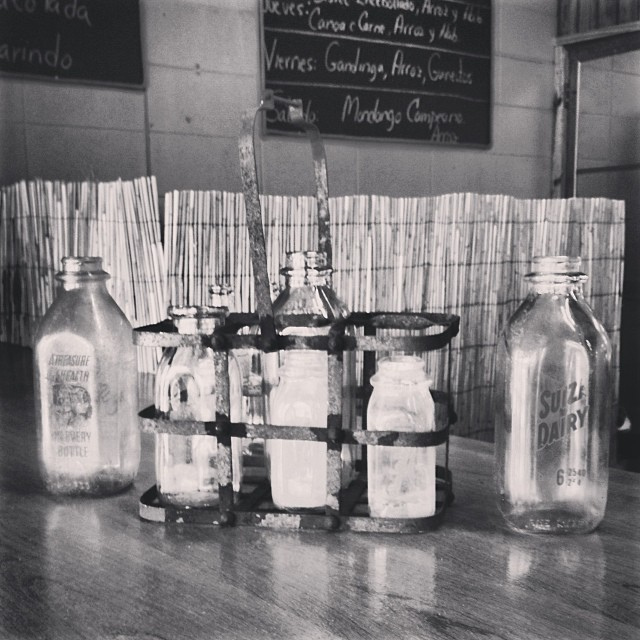glass of water: (500, 249, 611, 541)
